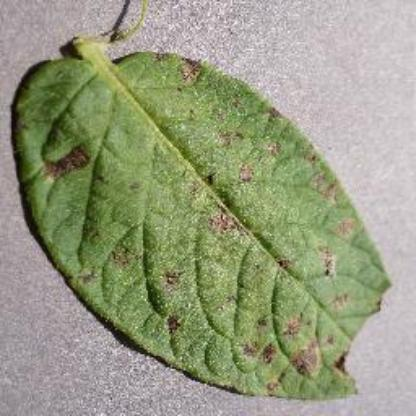Early-Blight: (7, 12, 396, 404)
